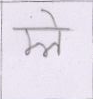o_matra: (50, 10, 65, 57)
